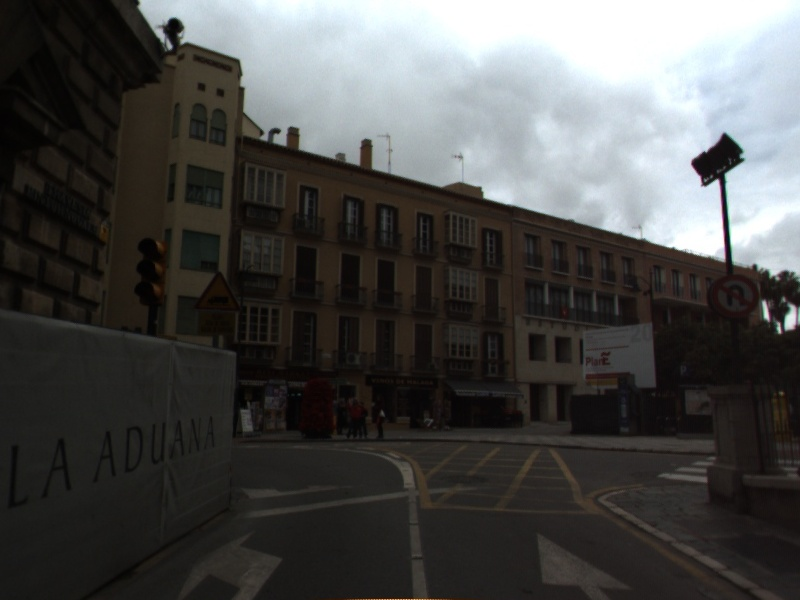LEFT: (176, 528, 285, 600)
STRAIGHT: (536, 530, 638, 600)
